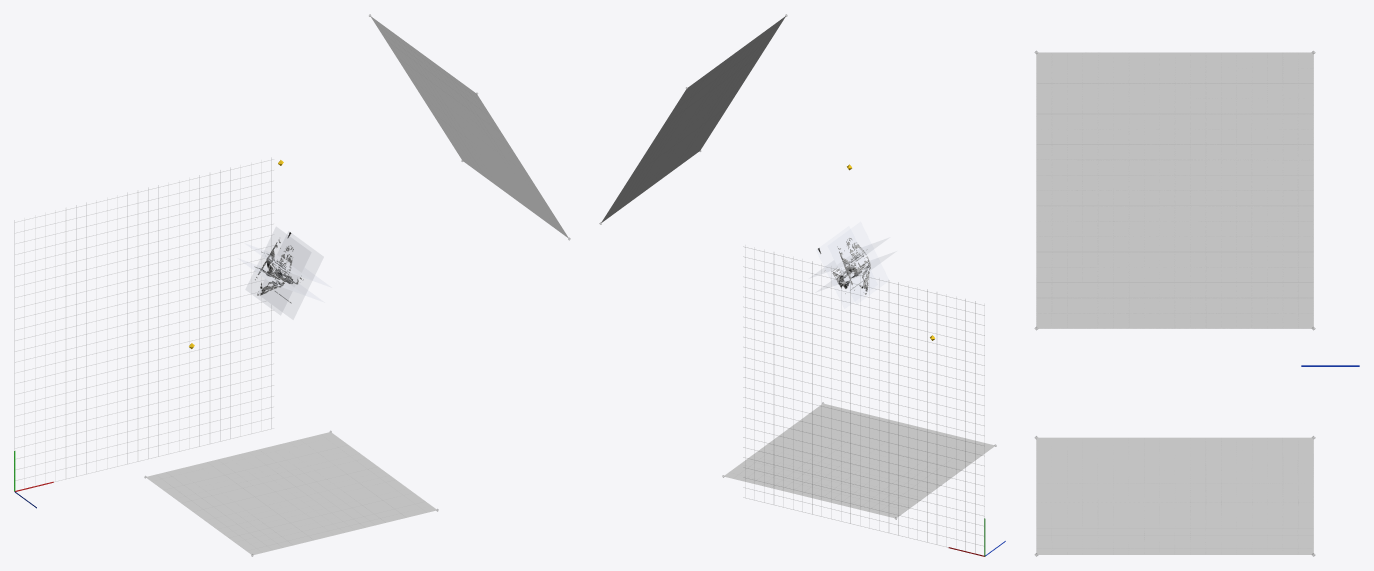
The model's file is pearl_shards.obj.
3 views of the same model, side by side, from view 1: azimuth 30°, elevation 25°; view 2: azimuth 150°, elevation 25°; view 3: azimuth 270°, elevation 25° (orthographic). The views are drawn at different scales.
Visible parts, largest first — view 1: wall_A, wall_B, grid_floor, panel_F0p1, panel_F0p0; view 2: wall_A, wall_B, grid_floor, panel_F0p1, panel_F0p0; view 3: wall_B, wall_A, grid_wallB.
Boxes of the visible parts, x1,y1,x2,y2 form: wall_A: (146, 432, 436, 555); wall_B: (370, 16, 568, 238); grid_floor: (14, 157, 273, 490); panel_F0p1: (246, 227, 310, 314); panel_F0p0: (259, 232, 323, 318); wall_A: (724, 403, 994, 518); wall_B: (601, 16, 785, 222); grid_floor: (743, 246, 984, 553); panel_F0p1: (828, 222, 888, 303); panel_F0p0: (816, 227, 876, 307); wall_B: (1036, 52, 1313, 328); wall_A: (1036, 437, 1313, 554); grid_wallB: (1036, 52, 1313, 328).
Size of the model in its own units: 4203 by 3809 by 2115.
